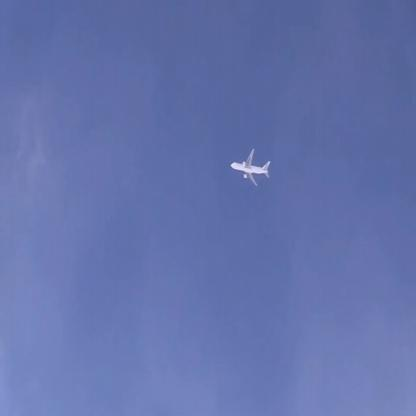plane: (231, 150, 272, 188)
